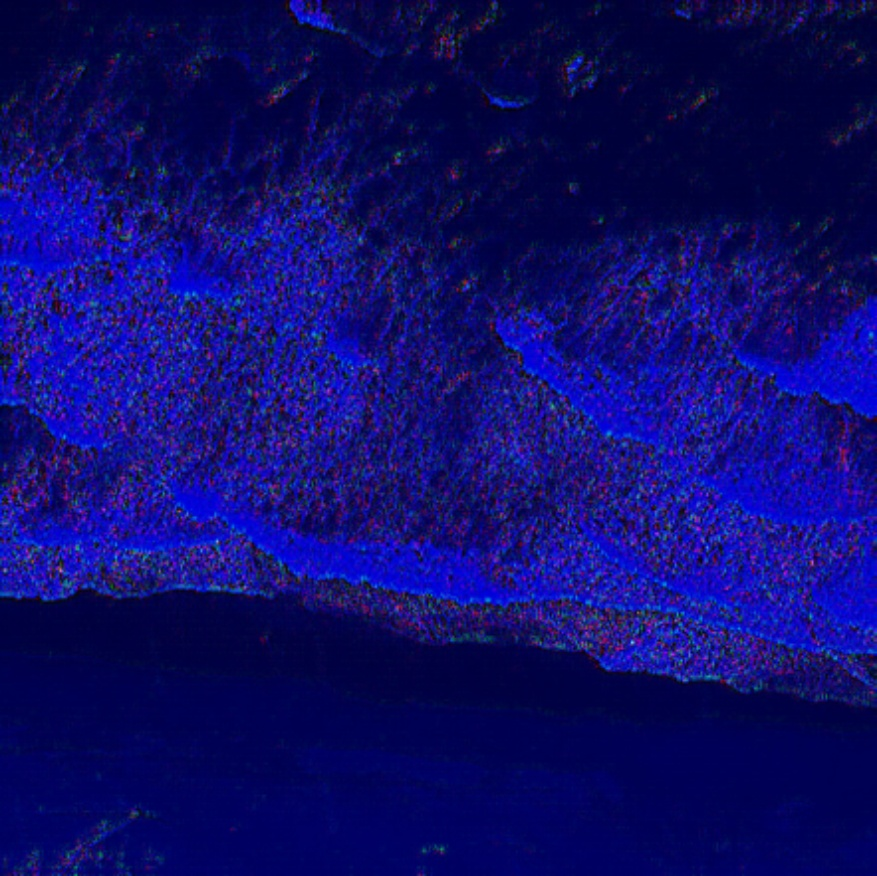rip_current: (308, 158, 536, 559)
